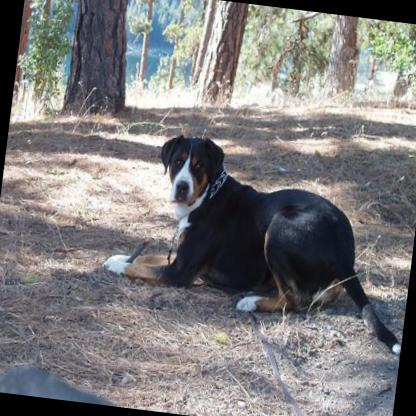Greater_Swiss_Mountain_dog: (93, 125, 416, 355)
